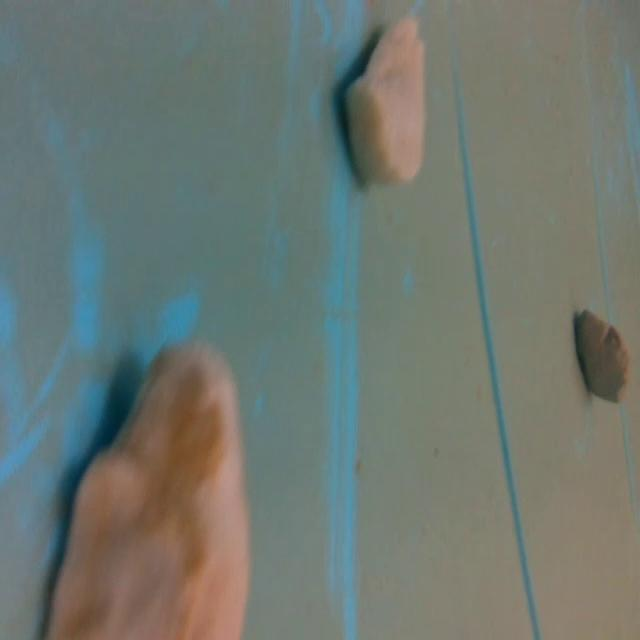rock: (334, 6, 437, 198), (568, 296, 636, 409)
